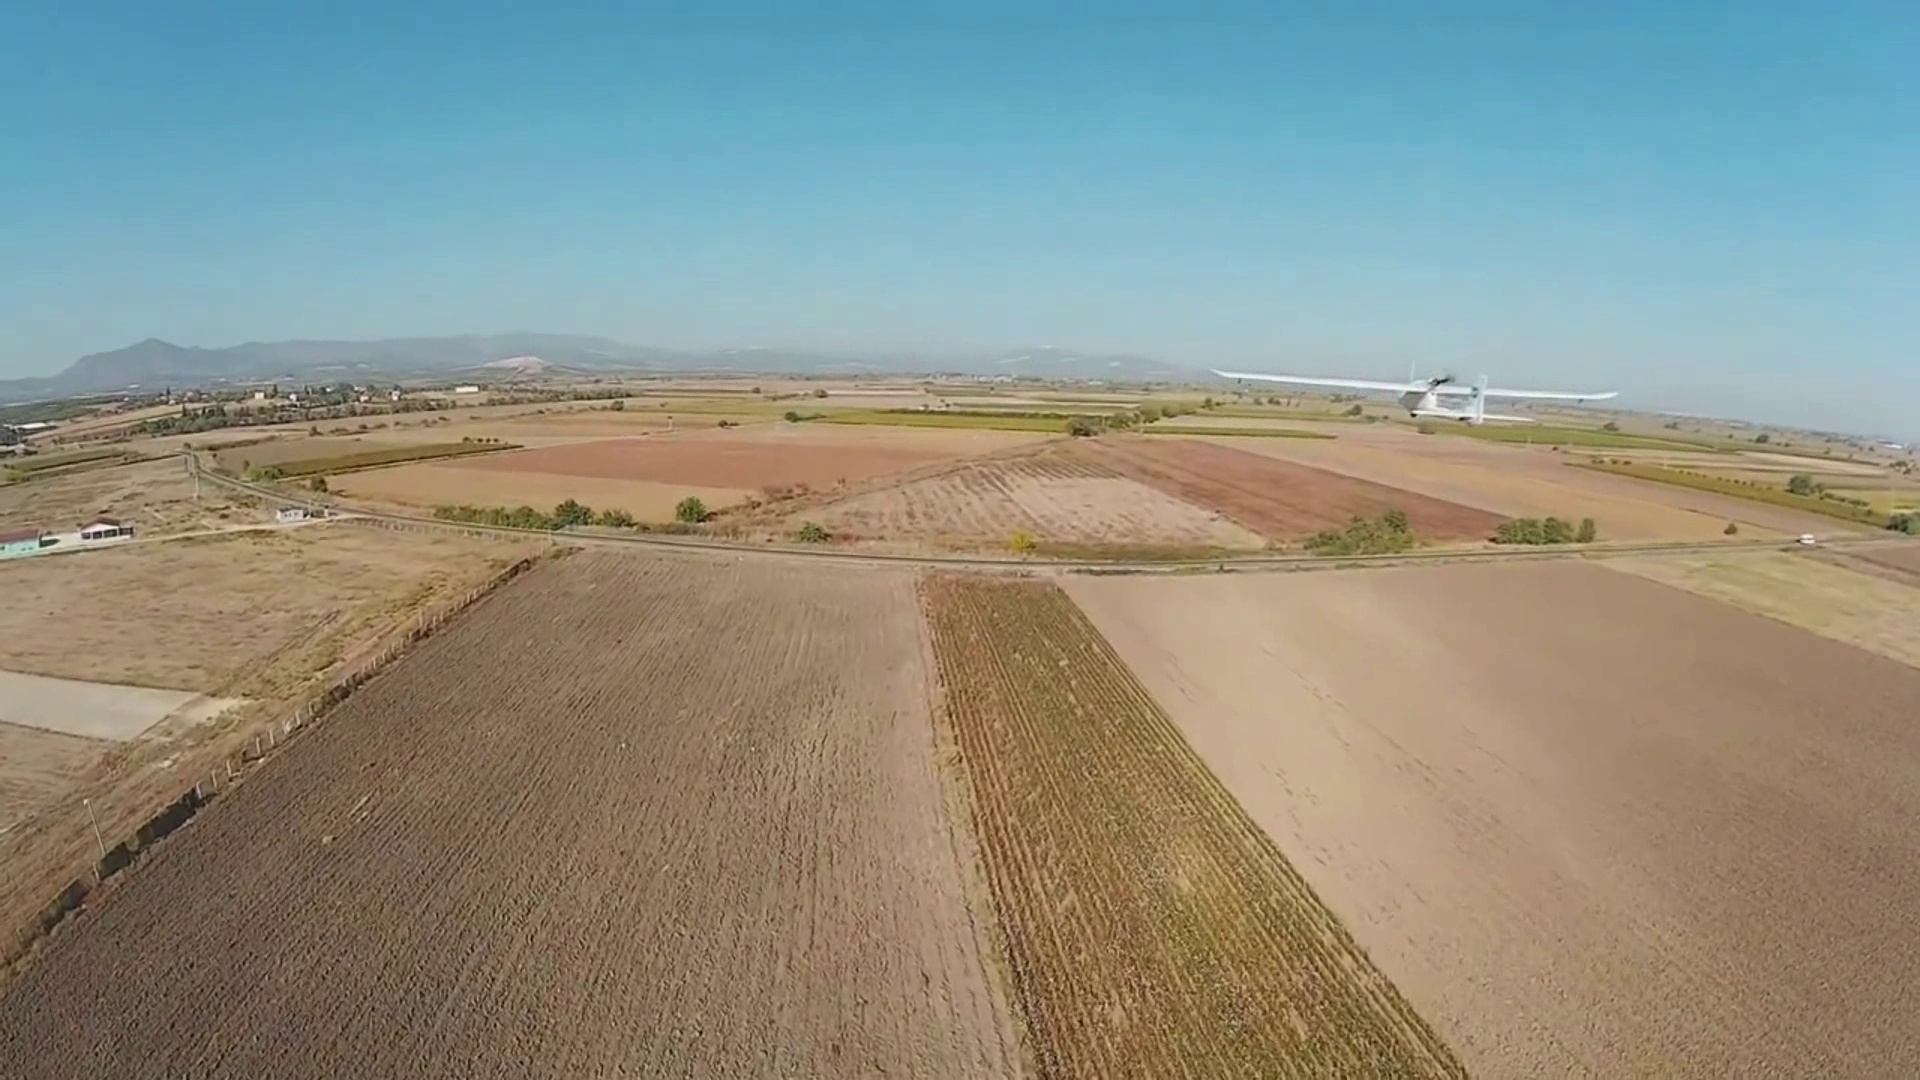airplane: (1, 520, 135, 558)
